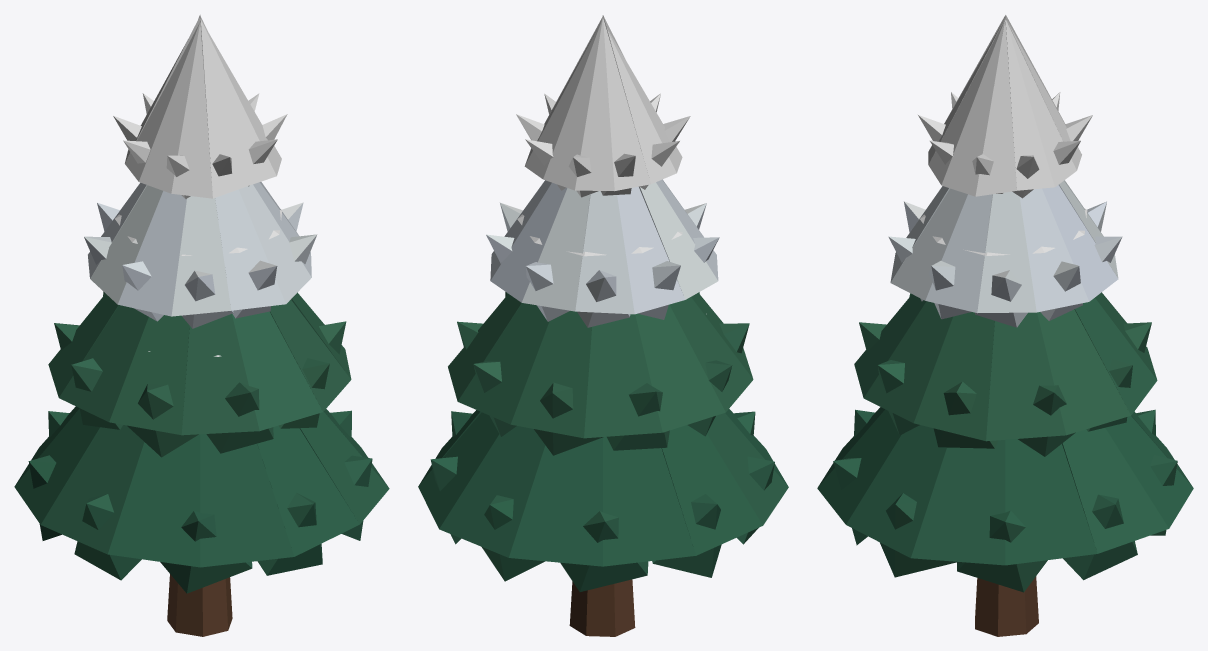
Rendered from tree-snowpine.glb.
3 renders of one model, left to right at view 1: azimuth 30°, elevation 25°; view 2: azimuth 150°, elevation 25°; view 3: azimuth 270°, elevation 25°, orthographic.
Parts seen in each view (by area): view 1: tree-snowpine; view 2: tree-snowpine; view 3: tree-snowpine.
Boxes of the visible parts, bbox=[...] form: tree-snowpine: bbox=[14, 15, 389, 636]; tree-snowpine: bbox=[418, 15, 788, 636]; tree-snowpine: bbox=[817, 15, 1193, 636].
Bounding box in the file's own units: 3.96 × 7.19 × 4.03.
